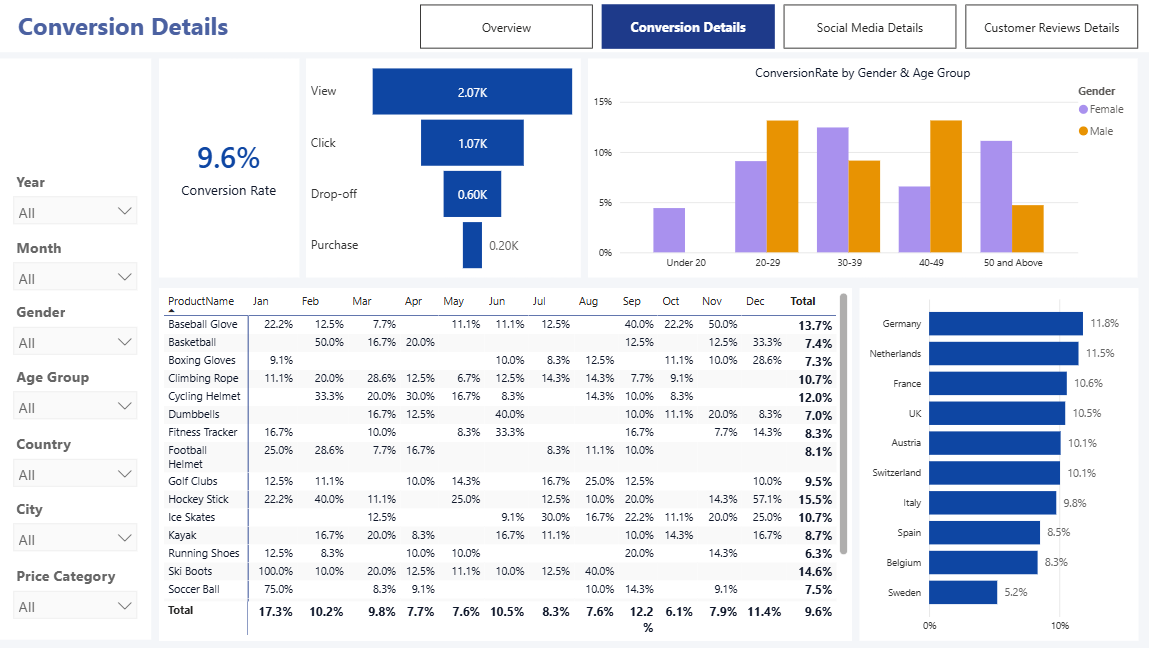

What the dashboard file says about the page in this screenshot:
{"tool":"powerbi","page":{"name":"Conversion Details","canvas":[1280,720],"ordinal":1},"visuals":[{"type":"textbox","box":[0,0,1280.8,58.3],"z":0},{"type":"cardVisual","title":"Coversion Rate","fields":{"Data":["_Calclations.ConversionRate"]},"box":[176.6,65.2,155.9,243.4],"z":1000},{"type":"clusteredColumnChart","title":"ConversionRate by Gender & Age Group","fields":{"Category":["dim_customers.AgeGroup"],"Y":["_Calclations.Conversion Rate"],"Series":["dim_customers.Gender"]},"box":[653.7,65.2,610.8,243.4],"z":2000},{"type":"funnel","fields":{"Category":["fact_customer_journey.Action"],"Y":["_Calclations.NumberofCustomerJourneys"]},"box":[340.4,65.2,305.4,243.4],"z":3000},{"type":"barChart","title":"Avg Rating by Product","fields":{"Category":["dim_customers.Country"],"Y":["_Calclations.Conversion Rate"]},"box":[955,320,310,391.7],"z":4000},{"type":"shape","box":[0,65.2,168,645.8],"z":5000},{"type":"slicer","fields":{"Values":["dim_products.PriceCategory"]},"box":[4.5,623.4,157.5,72.7],"z":6000},{"type":"pivotTable","fields":{"Rows":["dim_products.ProductName"],"Columns":["Calendar.MonthNameShort"],"Values":["_Calclations.Conversion Rate"]},"box":[176.6,319.7,770,391.3],"z":7000},{"type":"slicer","fields":{"Values":["dim_customers.Country"]},"box":[4.5,476.5,157.5,72.7],"z":8000},{"type":"slicer","fields":{"Values":["dim_customers.City"]},"box":[4.5,549.2,157.5,74.2],"z":9000},{"type":"slicer","fields":{"Values":["dim_customers.AgeGroup"]},"box":[4.5,402.3,157.5,74.2],"z":10000},{"type":"slicer","fields":{"Values":["dim_customers.Gender"]},"box":[4.5,329.6,157.5,72.7],"z":11000},{"type":"slicer","fields":{"Values":["Calendar.MonthNameLong"]},"box":[4.5,258.4,157.5,72.7],"z":12000},{"type":"slicer","fields":{"Values":["Calendar.Year"]},"box":[4.5,185.8,157.5,72.7],"z":13000},{"type":"pageNavigator","box":[466,4.8,800.1,49.3],"z":14000}]}

Visuals, with their boxes in screenshot pixels (x1, y1, x2, y2), scaled from the page's 1280x720 canvas onto the 1149x648 screenshot:
textbox: [left=0, top=0, right=1148, bottom=52]
"Coversion Rate" cardVisual: [left=159, top=59, right=298, bottom=278]
"ConversionRate by Gender & Age Group" clusteredColumnChart: [left=587, top=59, right=1135, bottom=278]
funnel - fact_customer_journey.Action x _Calclations.NumberofCustomerJourneys: [left=306, top=59, right=580, bottom=278]
"Avg Rating by Product" barChart: [left=857, top=288, right=1136, bottom=641]
shape: [left=0, top=59, right=151, bottom=640]
slicer - dim_products.PriceCategory: [left=4, top=561, right=145, bottom=626]
pivotTable - dim_products.ProductName x Calendar.MonthNameShort: [left=159, top=288, right=850, bottom=640]
slicer - dim_customers.Country: [left=4, top=429, right=145, bottom=494]
slicer - dim_customers.City: [left=4, top=494, right=145, bottom=561]
slicer - dim_customers.AgeGroup: [left=4, top=362, right=145, bottom=429]
slicer - dim_customers.Gender: [left=4, top=297, right=145, bottom=362]
slicer - Calendar.MonthNameLong: [left=4, top=233, right=145, bottom=298]
slicer - Calendar.Year: [left=4, top=167, right=145, bottom=233]
pageNavigator: [left=418, top=4, right=1137, bottom=49]
